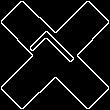L_SE: (26, 26, 84, 84)
